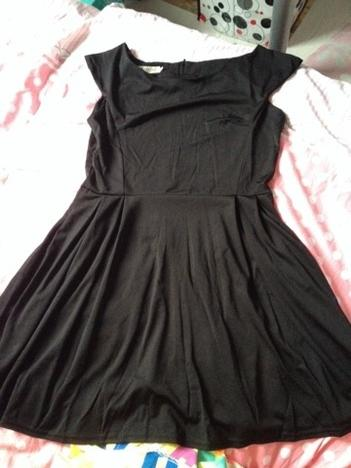S_dress: (1, 39, 351, 455)
